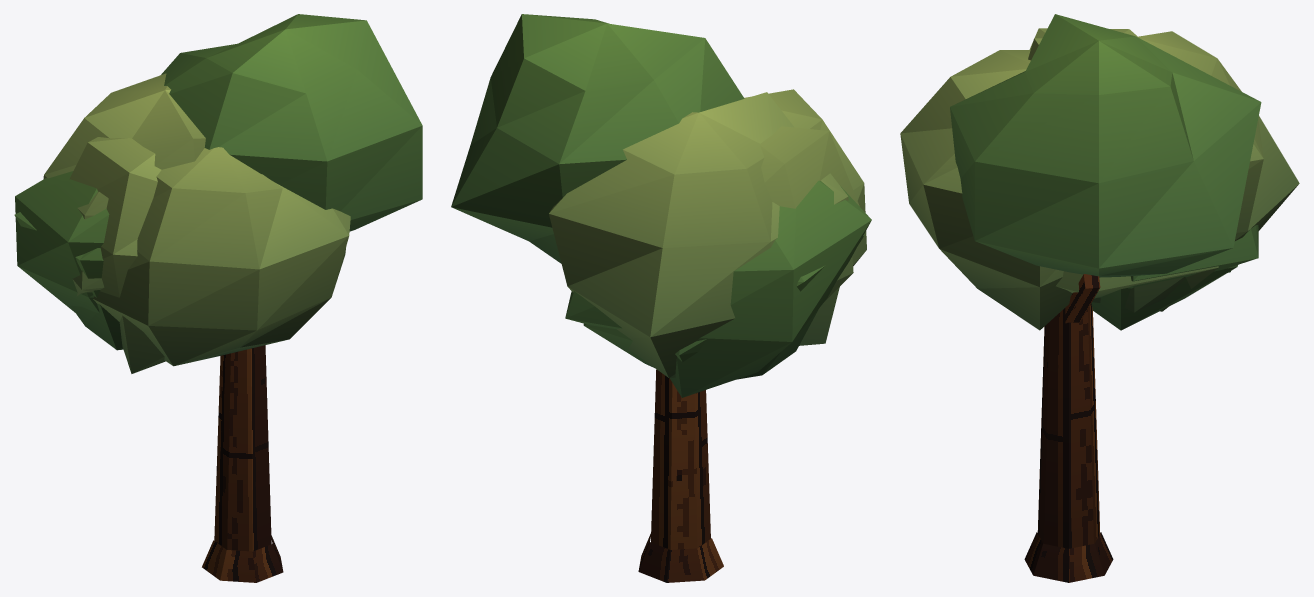
Rendered from apple_2_lowpoly.glb.
3 renders of one model, left to right at view 1: azimuth 30°, elevation 25°; view 2: azimuth 150°, elevation 25°; view 3: azimuth 270°, elevation 25°, orthographic. The views are drawn at different scales.
Parts seen in each view (by area): view 1: apple_2_lowpoly; view 2: apple_2_lowpoly; view 3: apple_2_lowpoly.
Part boxes in pixels (x1=…): apple_2_lowpoly: x1=14, y1=14, x2=422, y2=582; apple_2_lowpoly: x1=451, y1=14, x2=871, y2=582; apple_2_lowpoly: x1=900, y1=14, x2=1299, y2=582.
Size of the model in its own units: 3.58 by 4.81 by 3.15.
2 materials, 1 textured.
